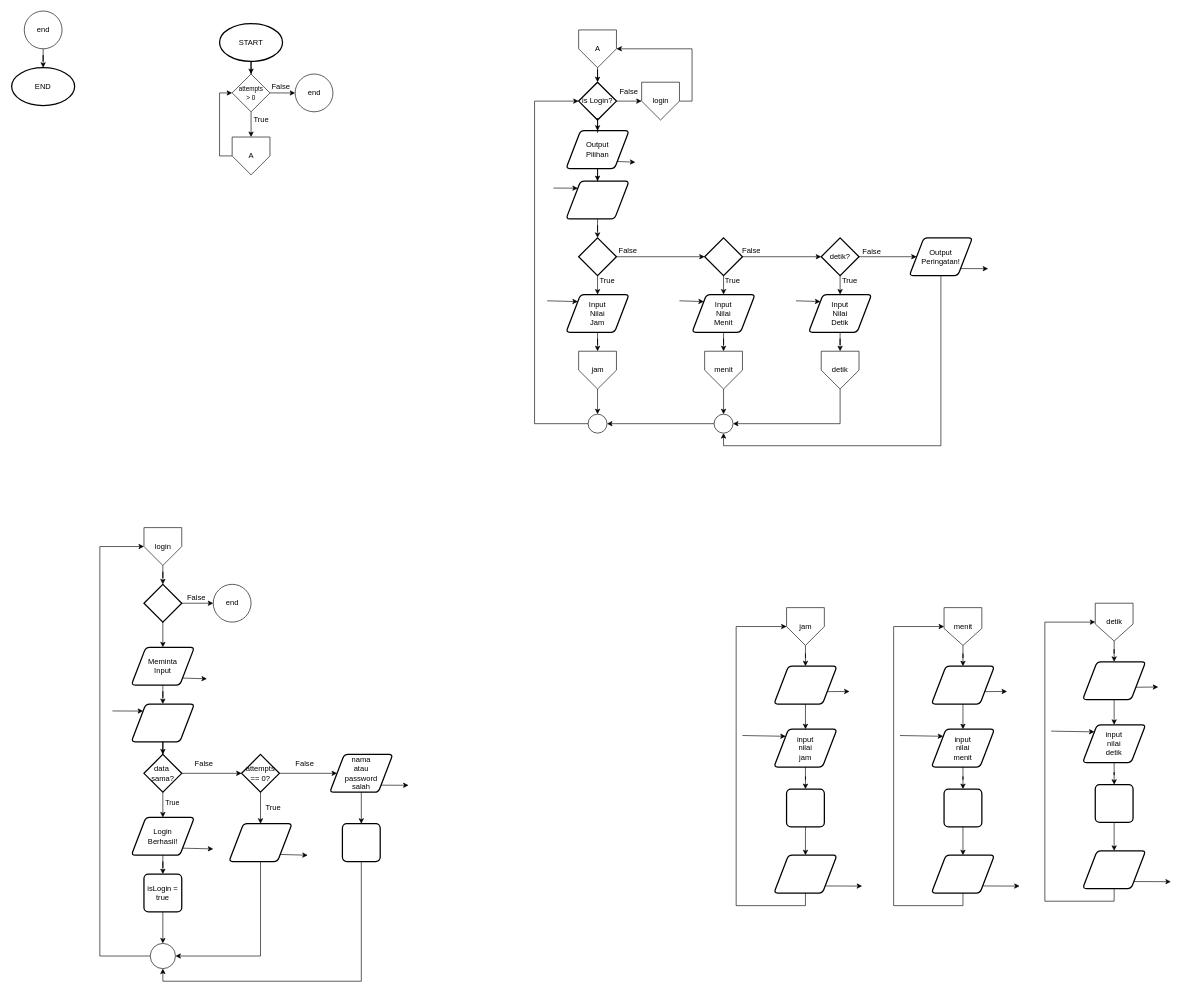
Image size: 1187x997. Some labels were removed from this diagram. The shapes that lost their labels are listed below. From the top down, each one's centre as x and y in pixels, then its label:
At point (597, 199): "Input Pilihan".
At point (597, 256): "jam?".
At point (723, 256): "menit?".
At point (162, 602): "attempts != 0".
At point (805, 684): "Masukkan nilai jam".
At point (963, 684): "Masukkan nilai menit".
At point (1114, 680): "Masukkan nilai detik".
At point (162, 722): "Input username dan password".
At point (805, 807): "konversi ke menit dan detik".
At point (962, 807): "konversi ke jam dan detik".
At point (1113, 803): "konversi ke jam dan menit".
At point (260, 842): "sisa percobaan habis".
At point (361, 842): "attempts--".
At point (805, 873): "nilai menit dan detik".
At point (963, 873): "nilai jam dan detik".
At point (1114, 869): "nilai jam dan menit".
